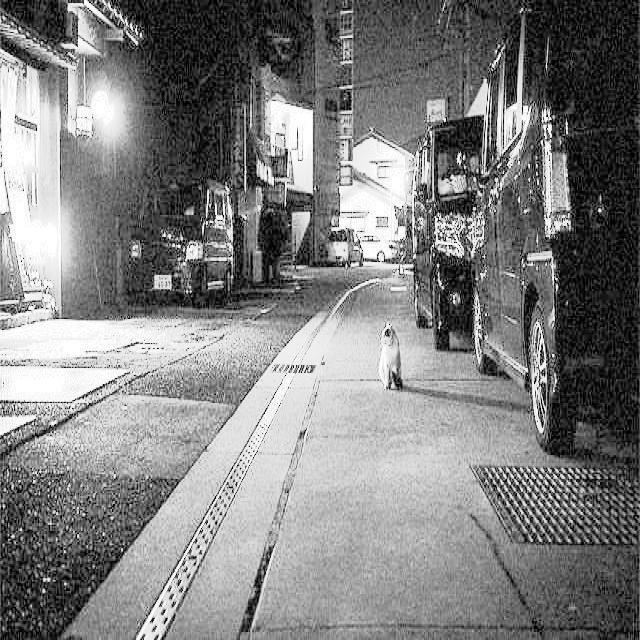Car: (472, 30, 640, 462), (407, 114, 509, 351), (127, 170, 238, 312)
Cat: (373, 323, 410, 390)
